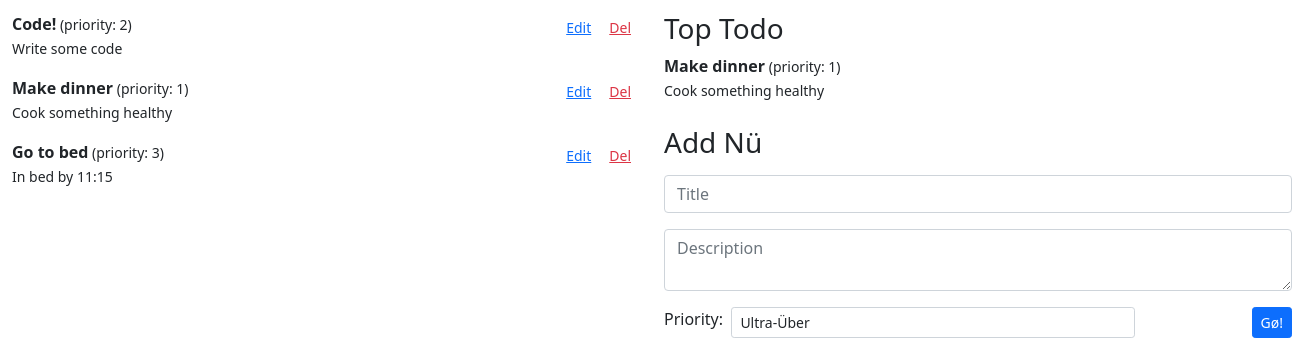
Test case: creates a new todo in the list
Expected: the text "This is a new todo" is not shown
Expected: the text "NewTodoTitle" is not shown
fill out the form
In the field with placeholder "Title": (978, 194) [664,175,1292,213], type "NewTodoTitle"
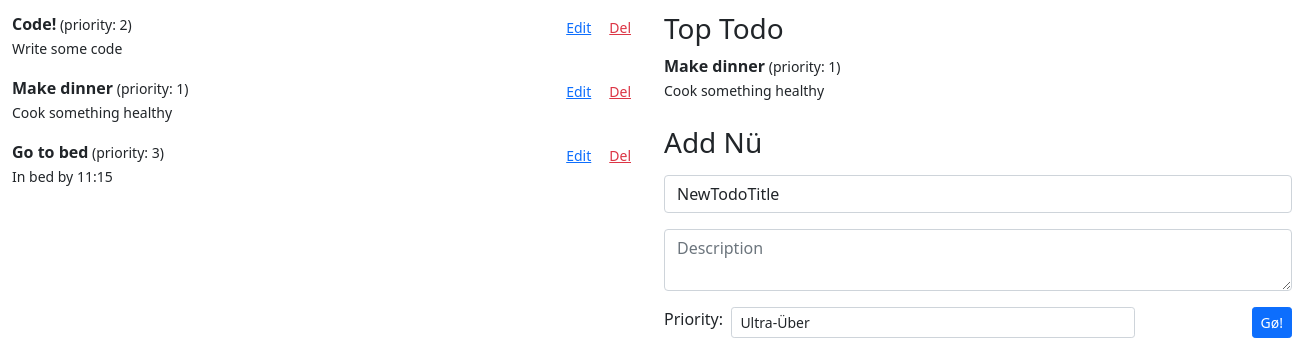
In the text box with placeholder "Description": (978, 260) [664,229,1292,291], type "This is a new todo"
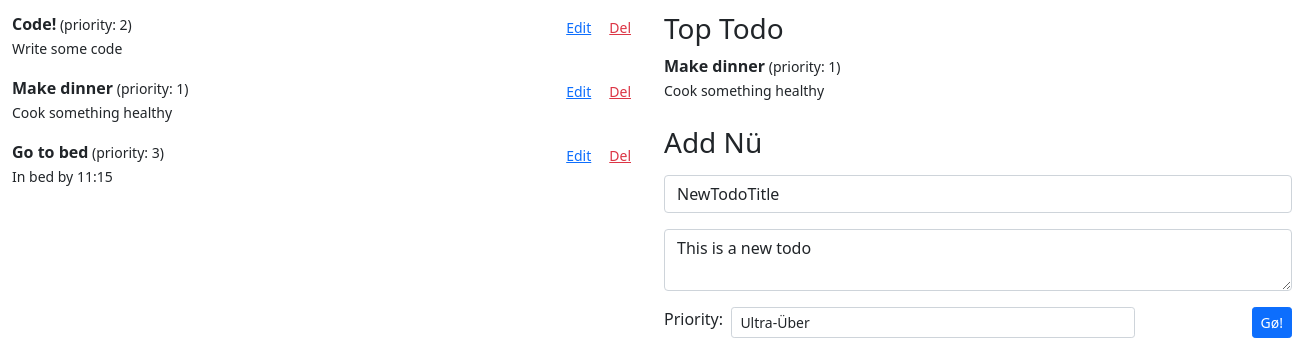
Select "Ultra-Über" in the dropdown labelled "Priority:": (933, 323) [731,307,1135,338]
Click the button "Gø!": (1272, 323) [1252,307,1292,338]
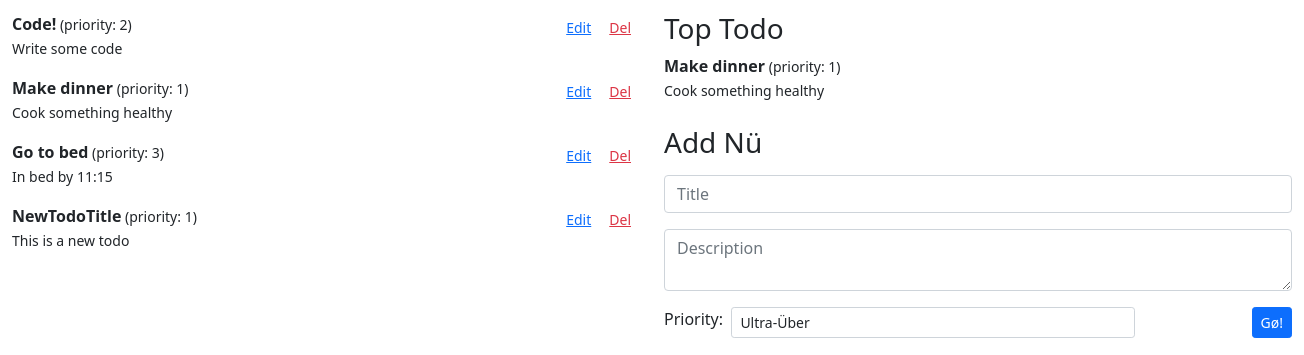
Now the text "This is a new todo" is shown, box [12,231,129,250]
Now the text "NewTodoTitle" is shown, box [12,205,121,227]
